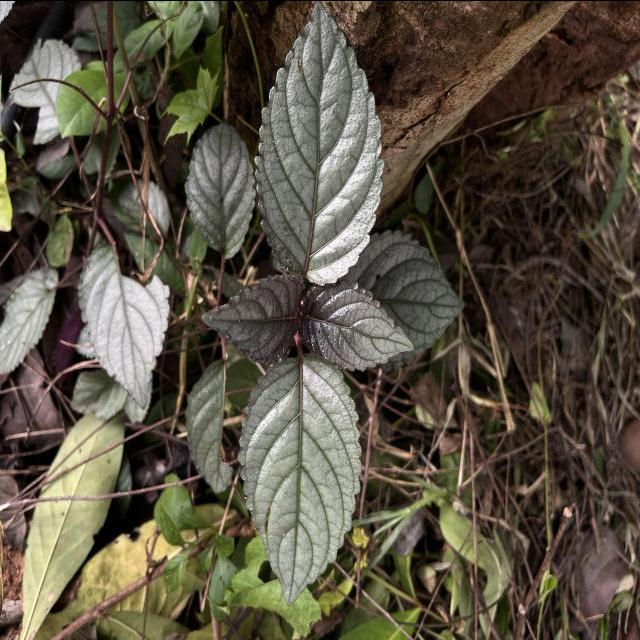Hemigraphis colorata: (251, 0, 388, 287), (234, 349, 366, 611), (296, 275, 419, 376), (182, 116, 259, 262), (200, 270, 303, 368)
